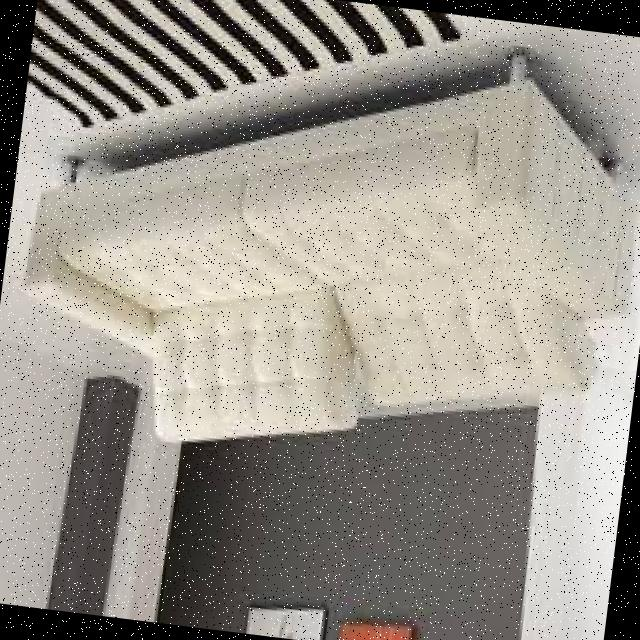Sofa: (0, 0, 640, 511)
